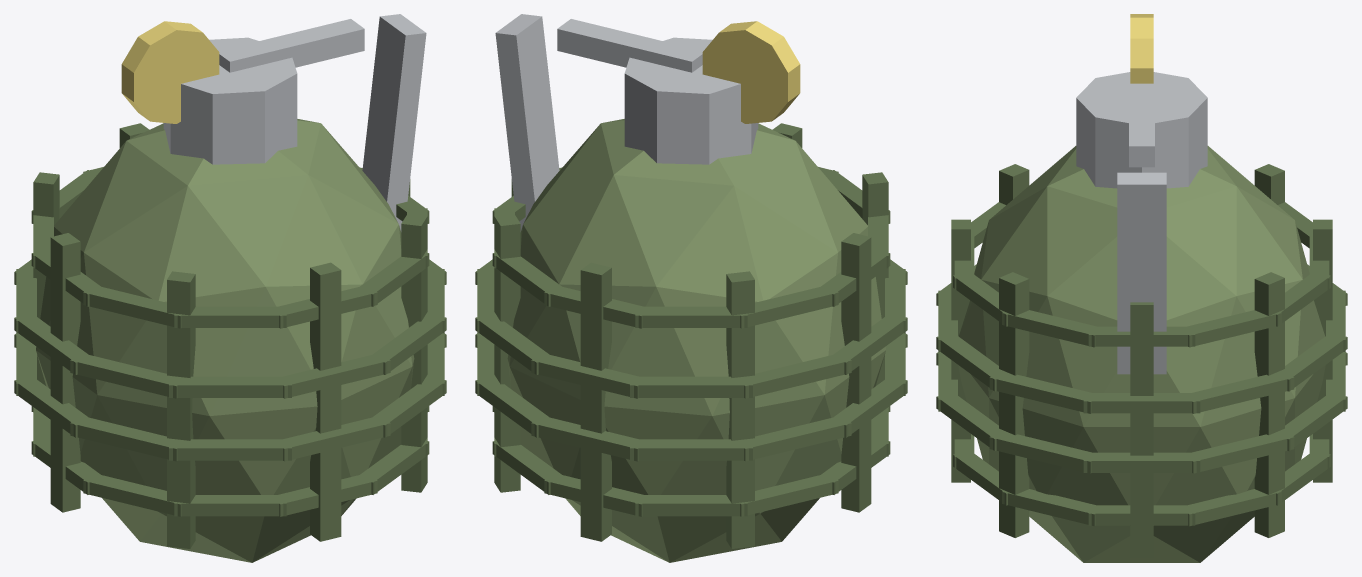
The model's file is grenade.glb.
The picture shows the model from 3 angles, left to right: view 1: azimuth 30°, elevation 25°; view 2: azimuth 150°, elevation 25°; view 3: azimuth 270°, elevation 25°; orthographic projection. The views are drawn at different scales.
Visible parts, largest first — view 1: Grenade; view 2: Grenade; view 3: Grenade.
Boxes of the visible parts, box(x1,y1,x2,y2) form: Grenade: box(14, 14, 446, 562); Grenade: box(475, 14, 907, 562); Grenade: box(936, 14, 1347, 562).
Size of the model in its own units: 0.2499 by 0.3453 by 0.2499.
